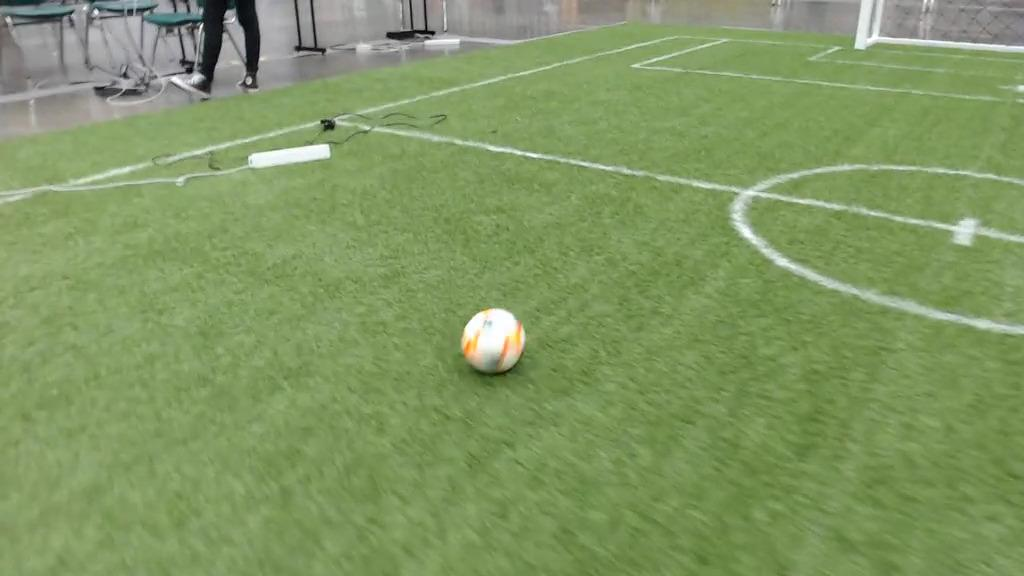ball: (462, 307, 525, 375)
